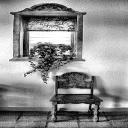chair_success: (34, 66, 116, 125)
